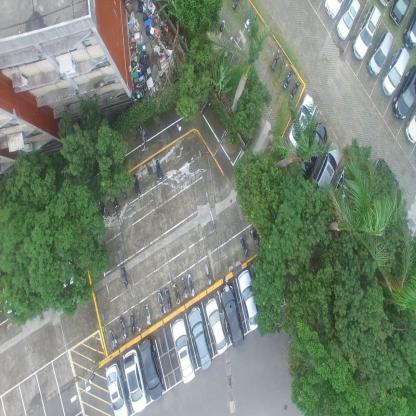car: (298, 120, 328, 182), (351, 5, 382, 63), (287, 92, 316, 152), (187, 306, 213, 372), (171, 318, 196, 385), (138, 337, 164, 401), (122, 350, 148, 414), (312, 140, 342, 195), (219, 284, 244, 350), (374, 154, 402, 210), (380, 46, 410, 97), (237, 269, 261, 332), (366, 28, 394, 78), (392, 65, 416, 121), (205, 297, 228, 355), (105, 363, 129, 415), (330, 164, 353, 212), (335, 0, 361, 42), (402, 6, 416, 51), (389, 0, 412, 27), (323, 0, 347, 21), (404, 106, 416, 144)
